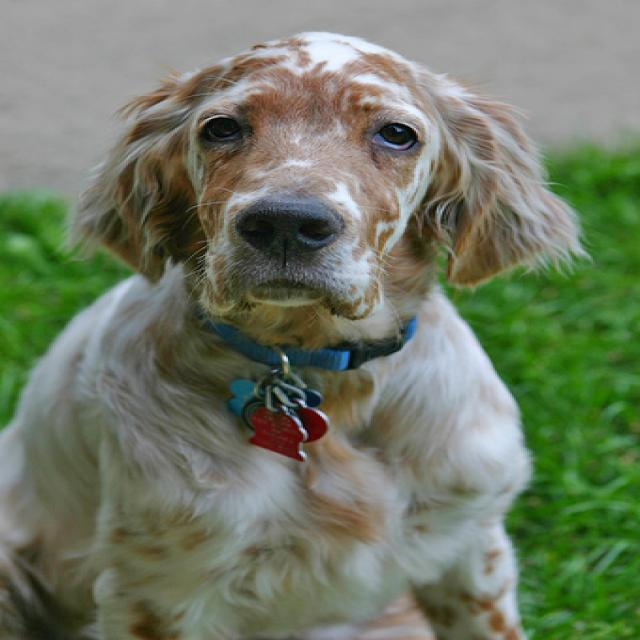dog-english_setter: (2, 19, 591, 637)
